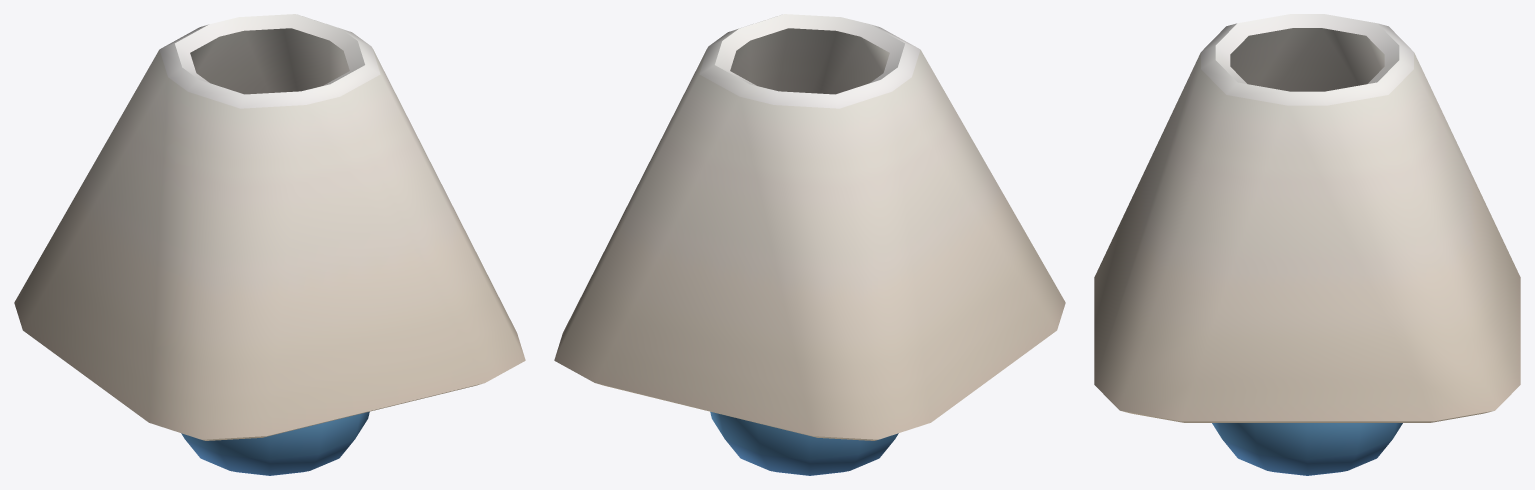
The model's file is lamp.glb.
The picture shows the model from 3 angles, left to right: view 1: azimuth 30°, elevation 25°; view 2: azimuth 150°, elevation 25°; view 3: azimuth 270°, elevation 25°; orthographic projection.
Visible parts, largest first — view 1: lamp_table; view 2: lamp_table; view 3: lamp_table.
Part boxes in pixels (x1=…): lamp_table: x1=14, y1=14, x2=525, y2=475; lamp_table: x1=554, y1=14, x2=1065, y2=475; lamp_table: x1=1094, y1=14, x2=1520, y2=475.
Size of the model in its own units: 1 by 1.02 by 1.
Materials: 1 (1 with a texture image).
